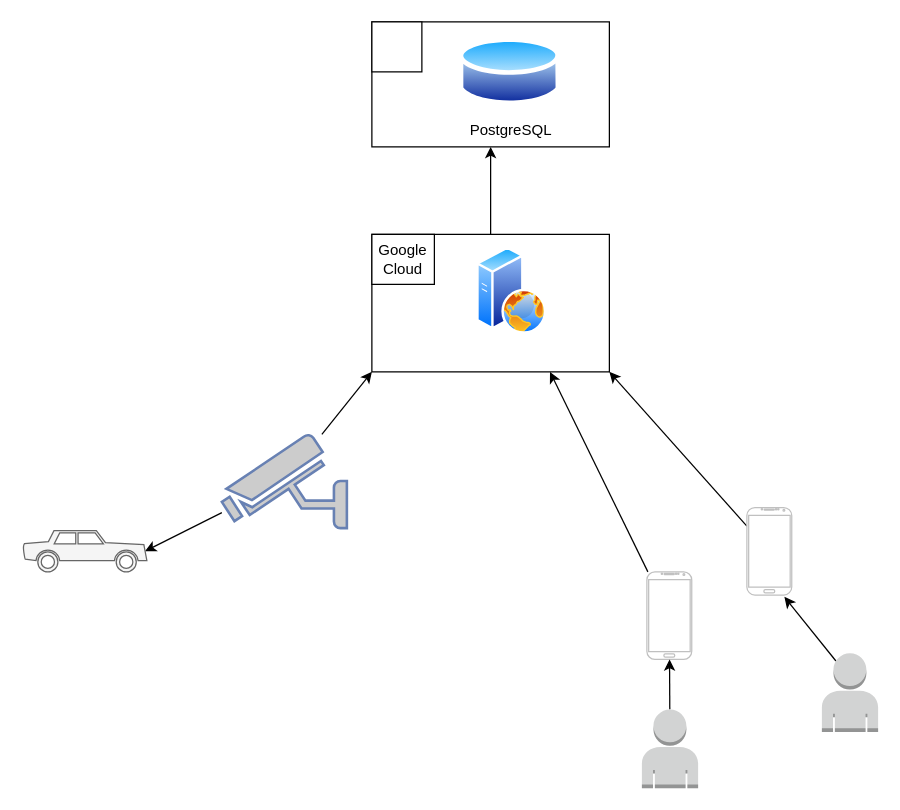
The diagram is 900 pixels wide and 810 high, and some of its shapes have lost their labels. Each missing label, with the box of its shape:
Aiven: (371, 21, 422, 72)
Backend server: (476, 246, 546, 334)
